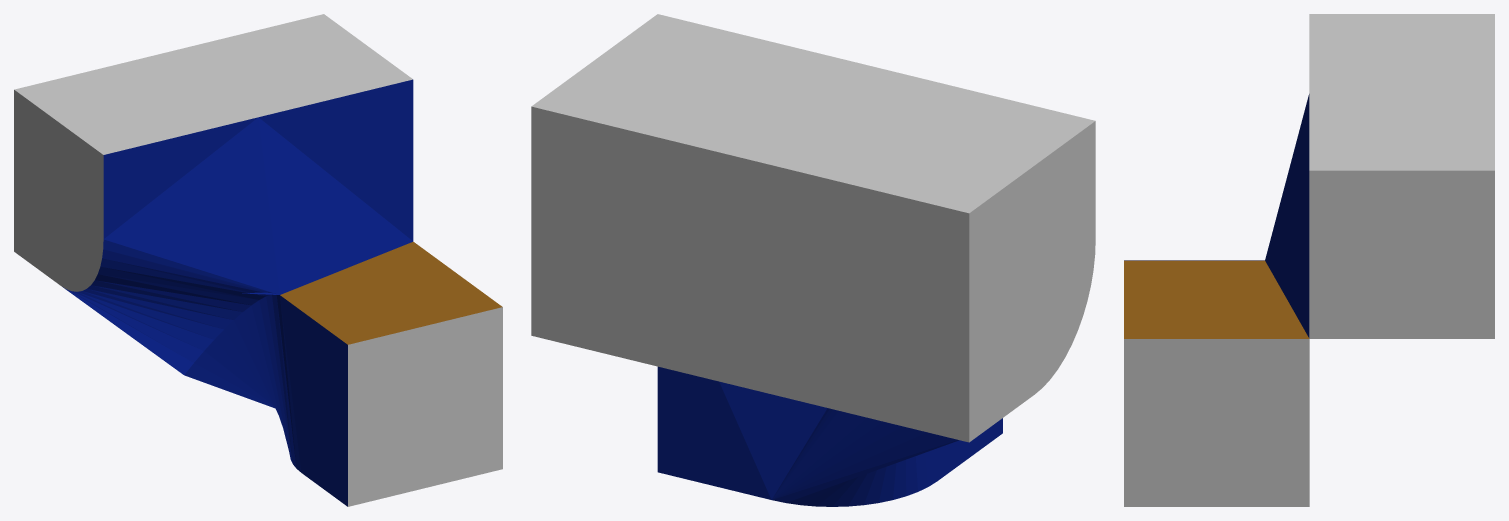
Rendered from case_52.fbx.
3 renders of one model, left to right at view 1: azimuth 30°, elevation 25°; view 2: azimuth 150°, elevation 25°; view 3: azimuth 270°, elevation 25°, orthographic. The views are drawn at different scales.
Parts seen in each view (by area): view 1: case_52; view 2: case_52; view 3: case_52.
Part boxes in pixels (<box>): case_52: <box>14,14,502,506</box>; case_52: <box>531,14,1095,506</box>; case_52: <box>1124,14,1494,506</box>.
Size of the model in its own units: 1 by 1 by 1.
